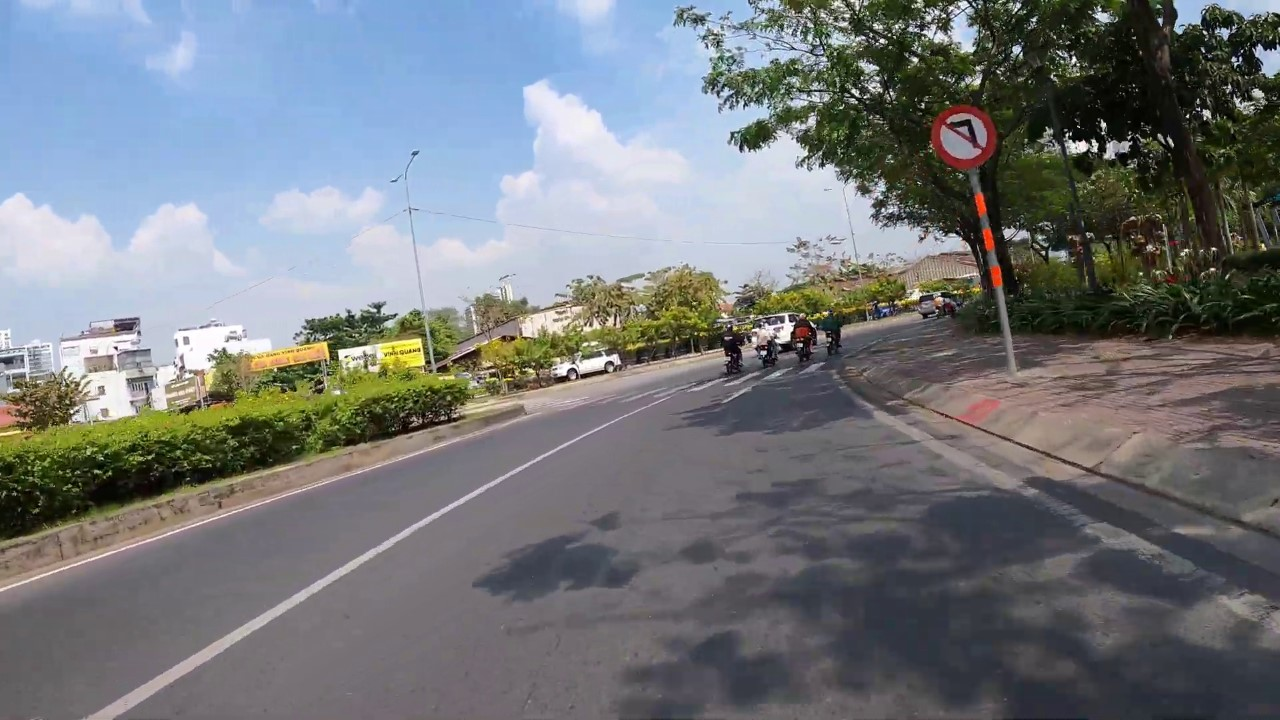cam_re_trai: (930, 104, 997, 170)
